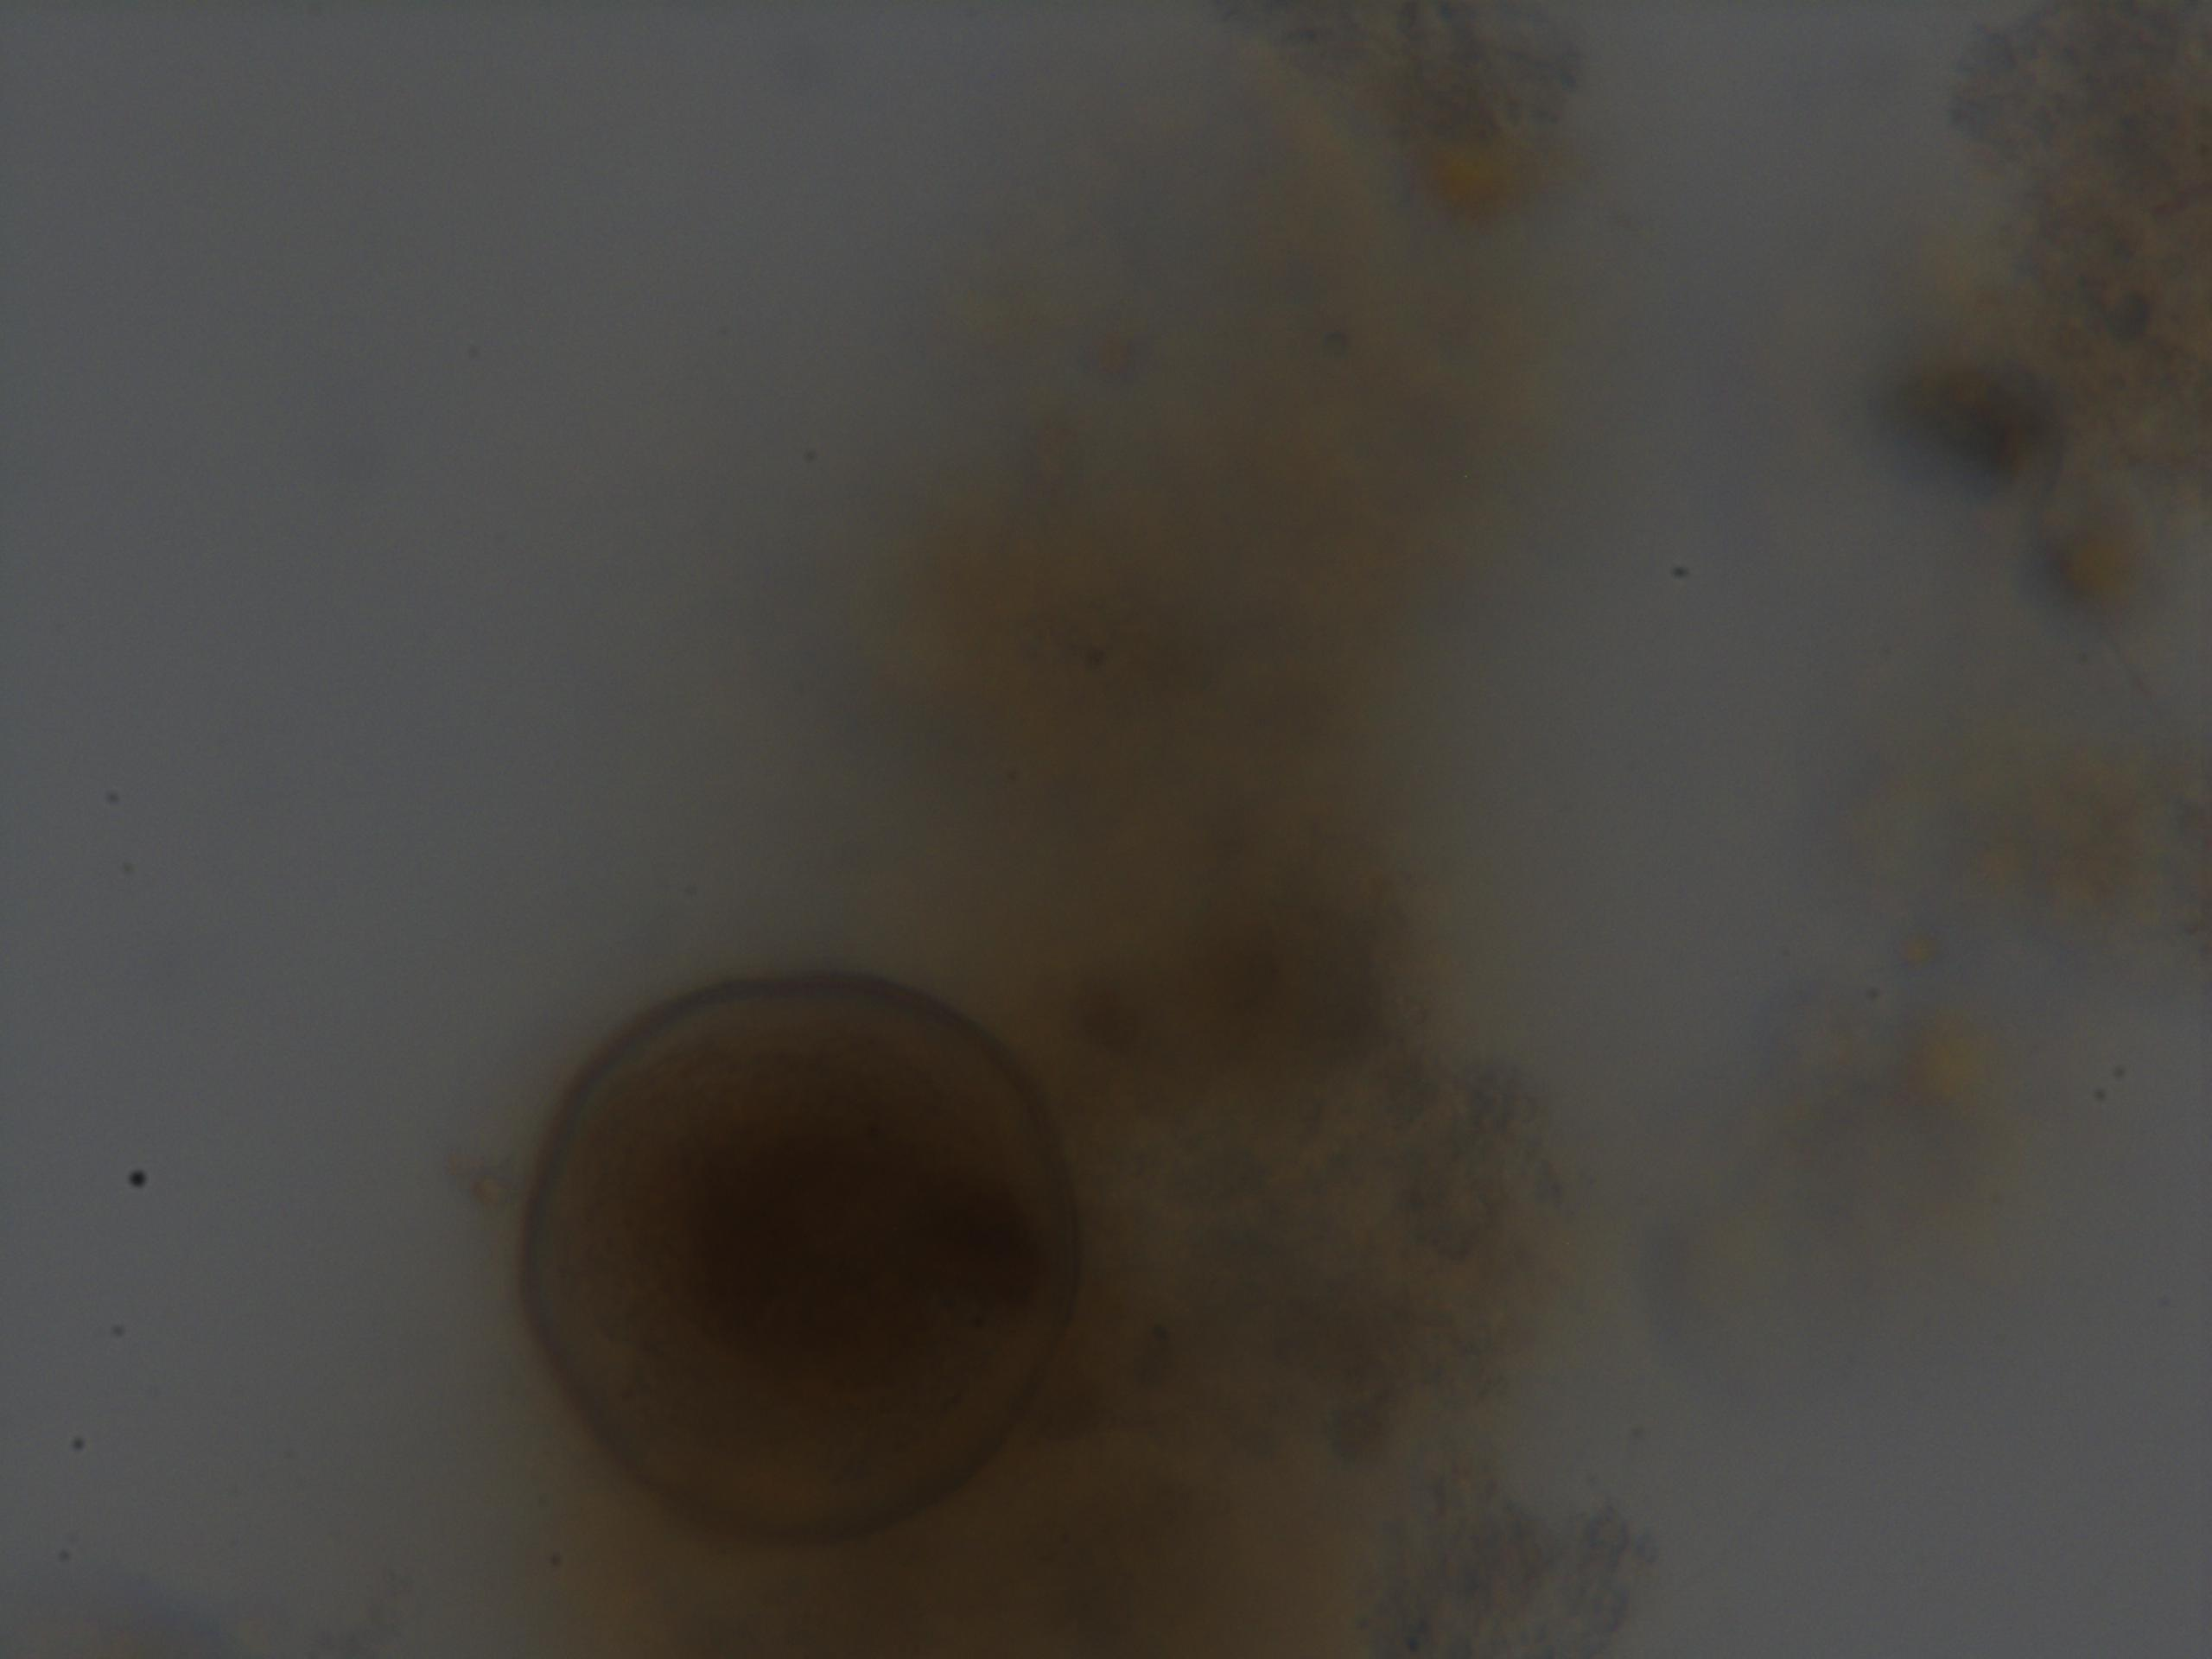protozoa: (496, 960, 1108, 1561)
